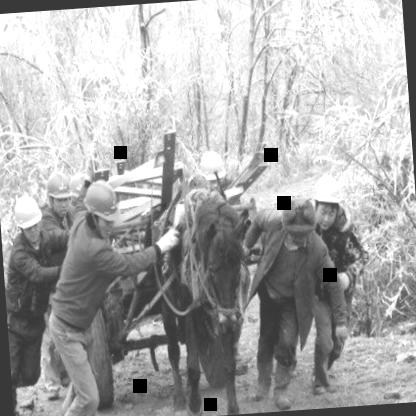helmet: (80, 176, 124, 238), (308, 171, 346, 228), (43, 172, 76, 214), (12, 194, 42, 238), (198, 148, 227, 192)
